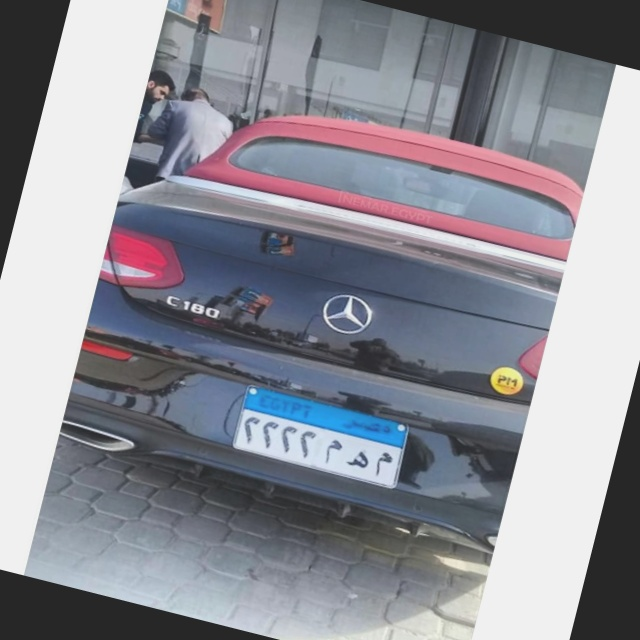License Plate: (227, 377, 416, 495)
